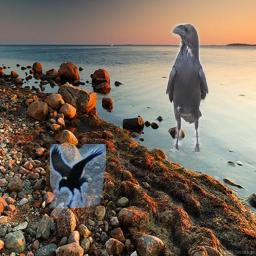Crow: (165, 23, 209, 153), (50, 144, 106, 208)
